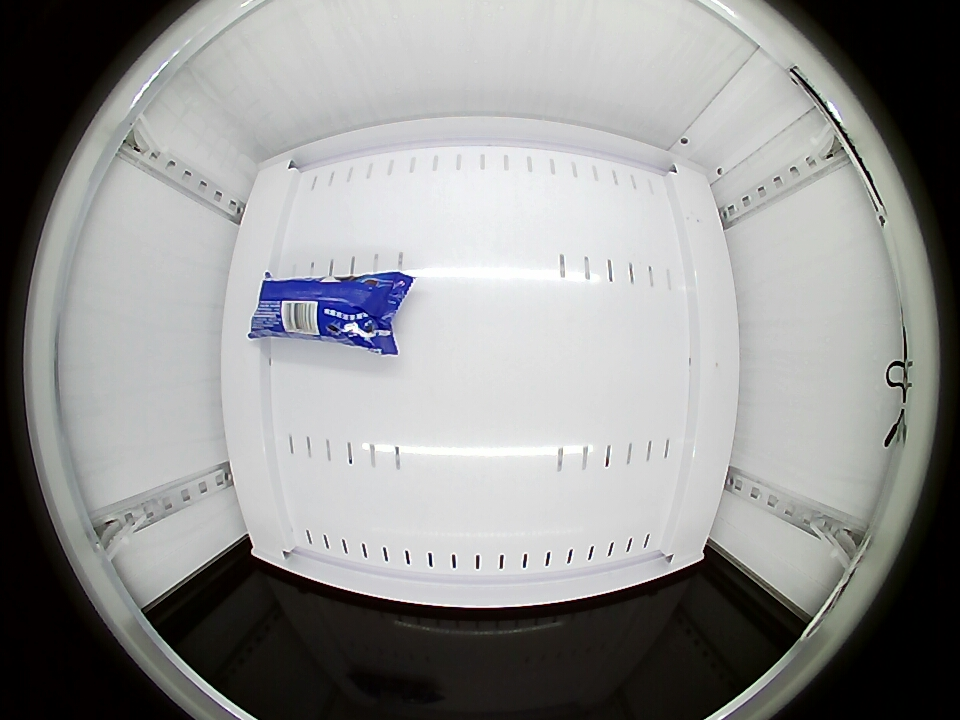aoliao: (249, 277, 398, 347)
